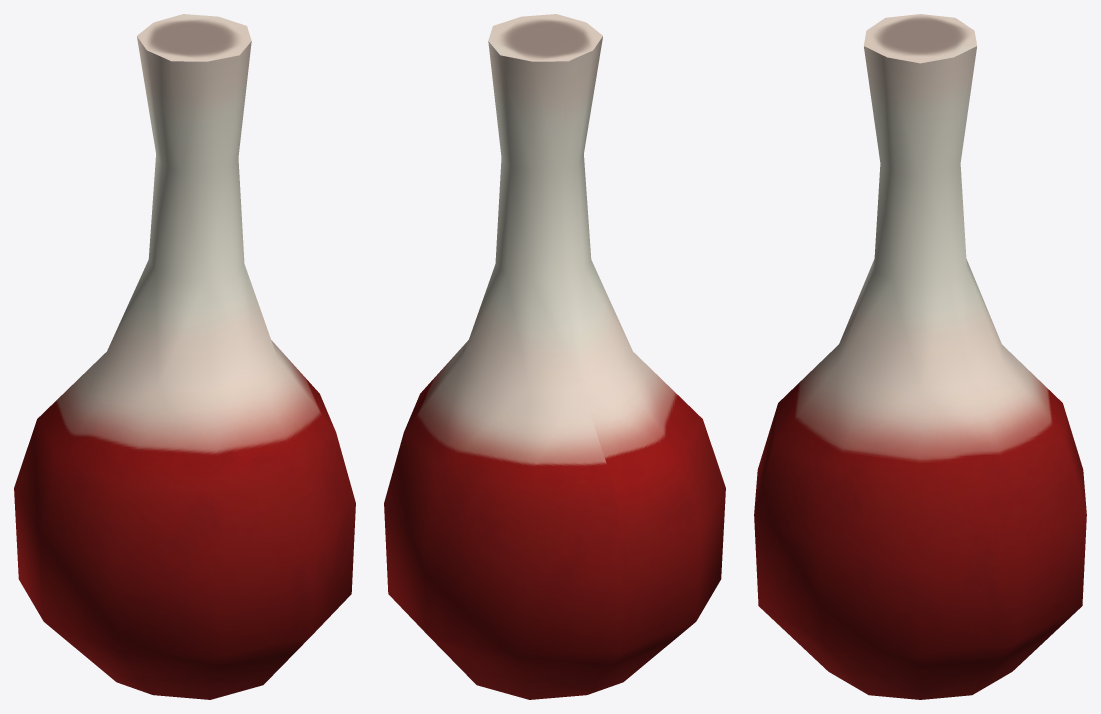
File: modelPotion_red01.fbx
3 renders of one model, left to right at view 1: azimuth 30°, elevation 25°; view 2: azimuth 150°, elevation 25°; view 3: azimuth 270°, elevation 25°, orthographic.
Parts seen in each view (by area): view 1: modelPotion_red01; view 2: modelPotion_red01; view 3: modelPotion_red01.
Boxes of the visible parts, x1,y1,x2,y2 form: modelPotion_red01: (14, 14, 355, 699); modelPotion_red01: (384, 14, 725, 699); modelPotion_red01: (754, 14, 1086, 699).
Bounding box in the file's own units: 3.94 × 8.02 × 3.79.
